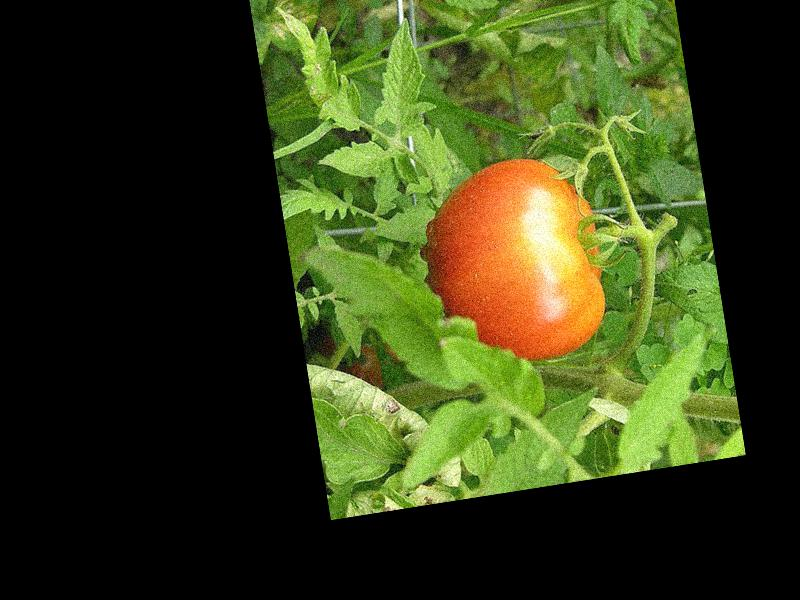Tomato: (416, 150, 615, 373)
